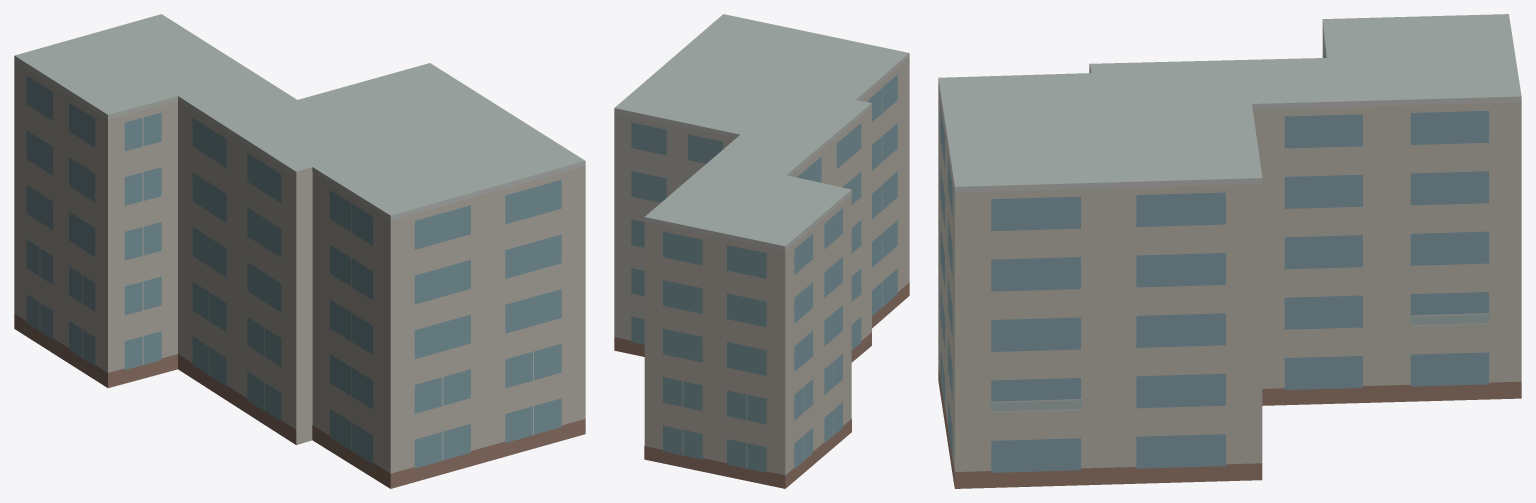
Rendered from survey-upis-32983969.glb.
3 renders of one model, left to right at view 1: azimuth 30°, elevation 25°; view 2: azimuth 150°, elevation 25°; view 3: azimuth 270°, elevation 25°, orthographic. The views are drawn at different scales.
Visible parts, largest first — view 1: survey-upis-32983969.tmp; view 2: survey-upis-32983969.tmp; view 3: survey-upis-32983969.tmp.
Part boxes in pixels (box(x1,y1,x2,y2)): survey-upis-32983969.tmp: box(14, 14, 585, 488); survey-upis-32983969.tmp: box(614, 14, 909, 488); survey-upis-32983969.tmp: box(938, 14, 1521, 488).
Size of the model in its own units: 16.09 by 13.1 by 22.94.
